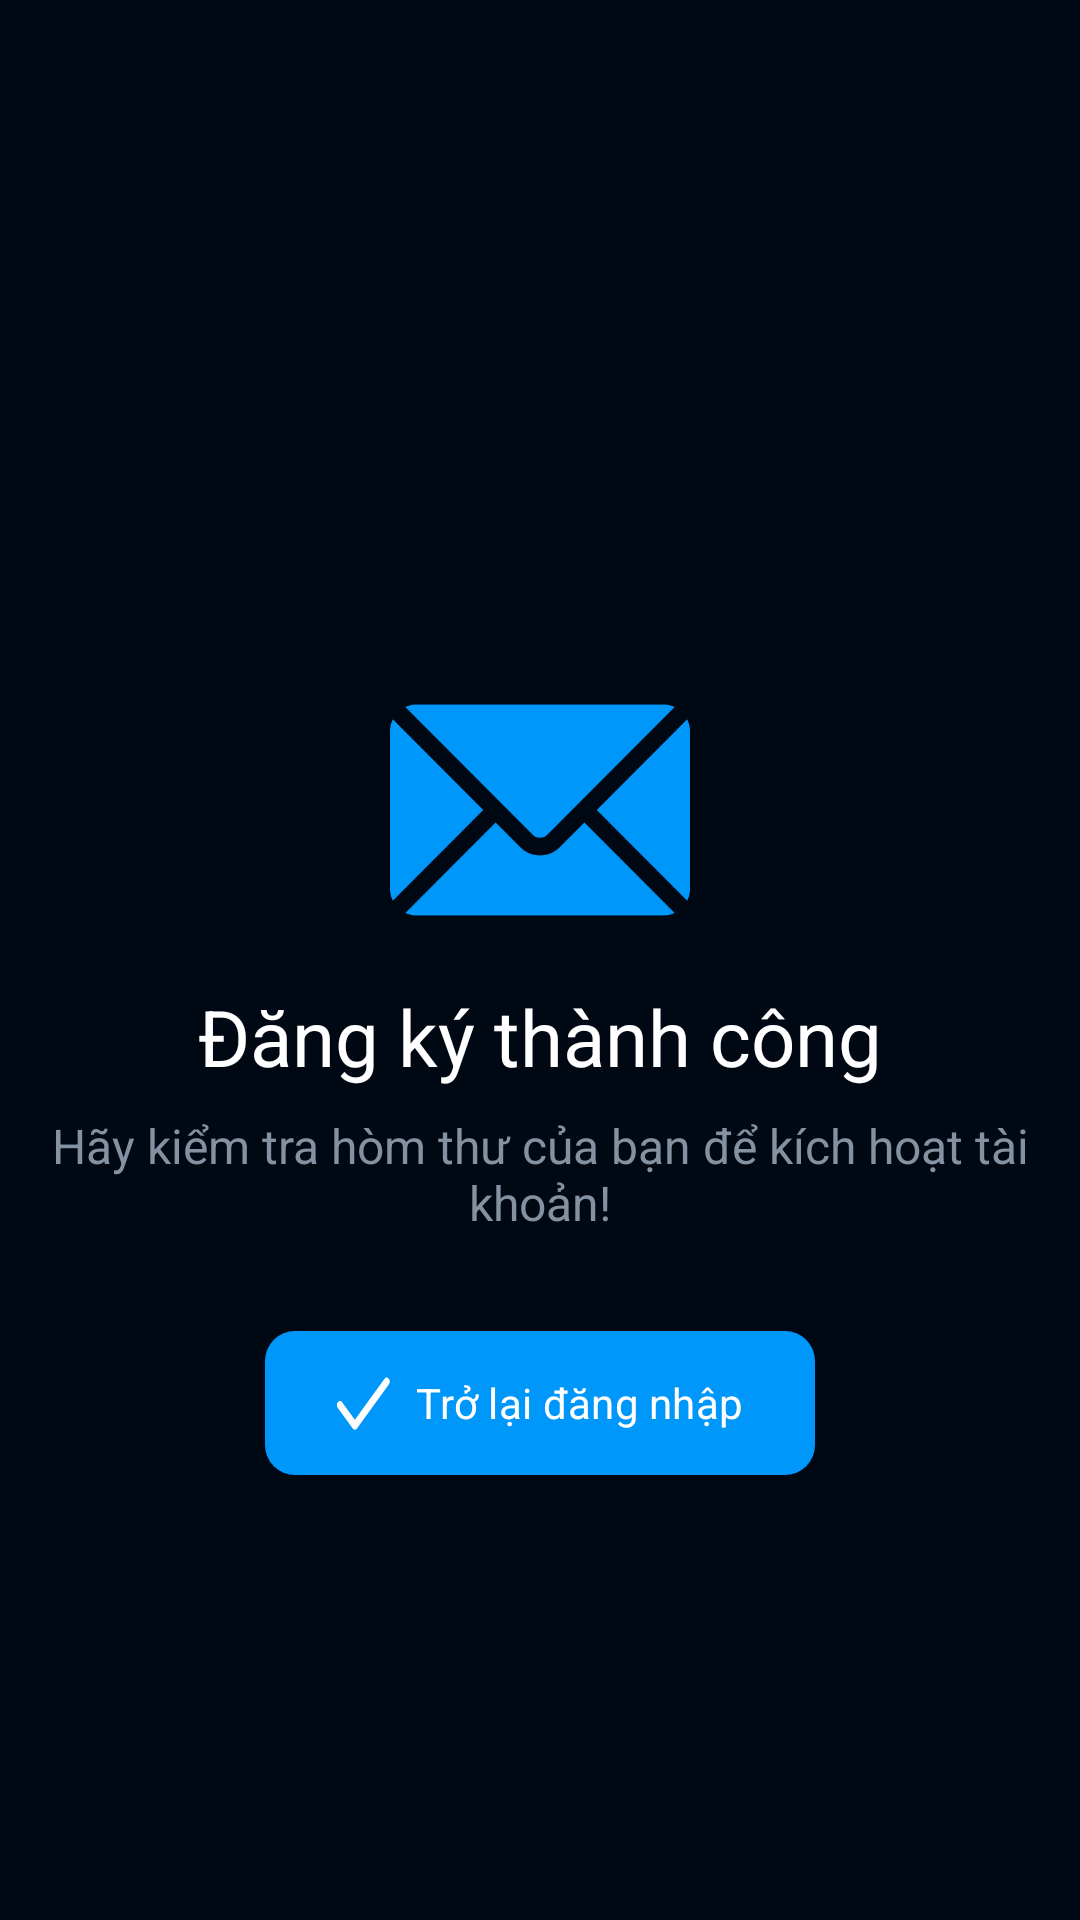

Icon bounding boxes for this 1080px x 1920px phone screenshot, format [x1,y1,x2,y2]:
email: [390,704,690,916]
